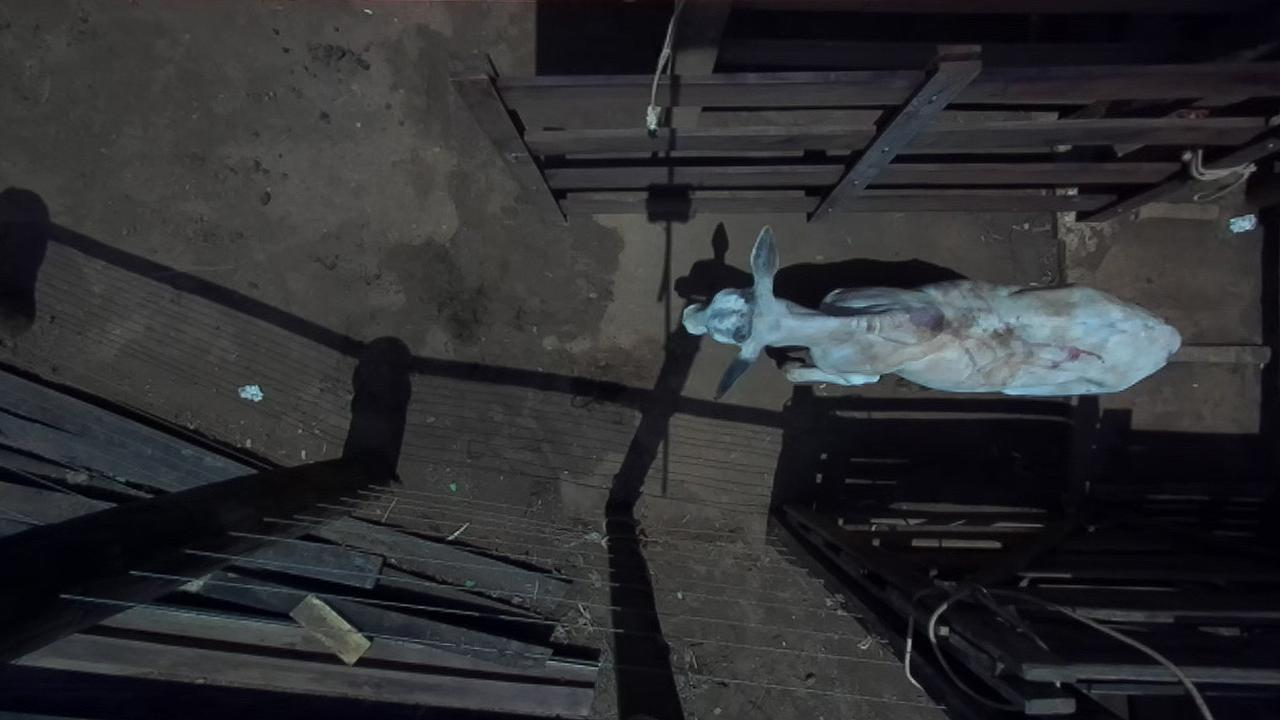cattle: (679, 223, 1182, 400)
